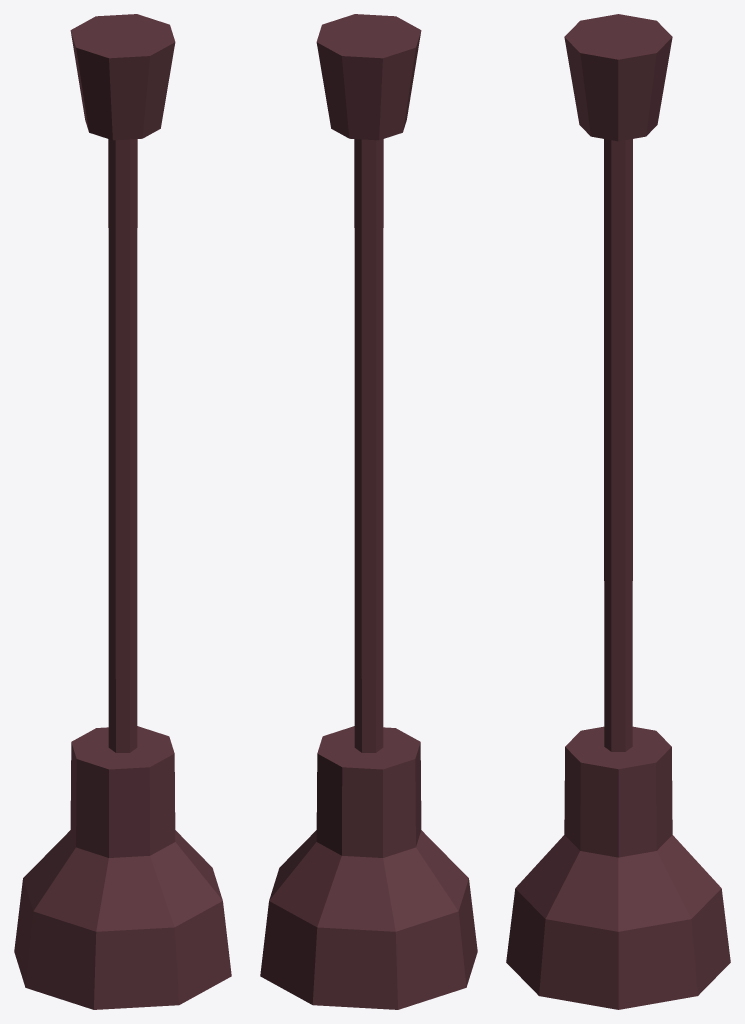
Rendered from furniture-lamp-ceiling-big.glb.
3 views of the same model, side by side, from view 1: azimuth 30°, elevation 25°; view 2: azimuth 150°, elevation 25°; view 3: azimuth 270°, elevation 25° (orthographic).
Parts seen in each view (by area): view 1: lamp-ceiling-big; view 2: lamp-ceiling-big; view 3: lamp-ceiling-big.
Boxes of the visible parts, x1,y1,x2,y2 form: lamp-ceiling-big: (14,14,231,1009); lamp-ceiling-big: (260,14,477,1009); lamp-ceiling-big: (506,14,730,1009).
Bounding box in the file's own units: 0.22 × 1 × 0.22.
